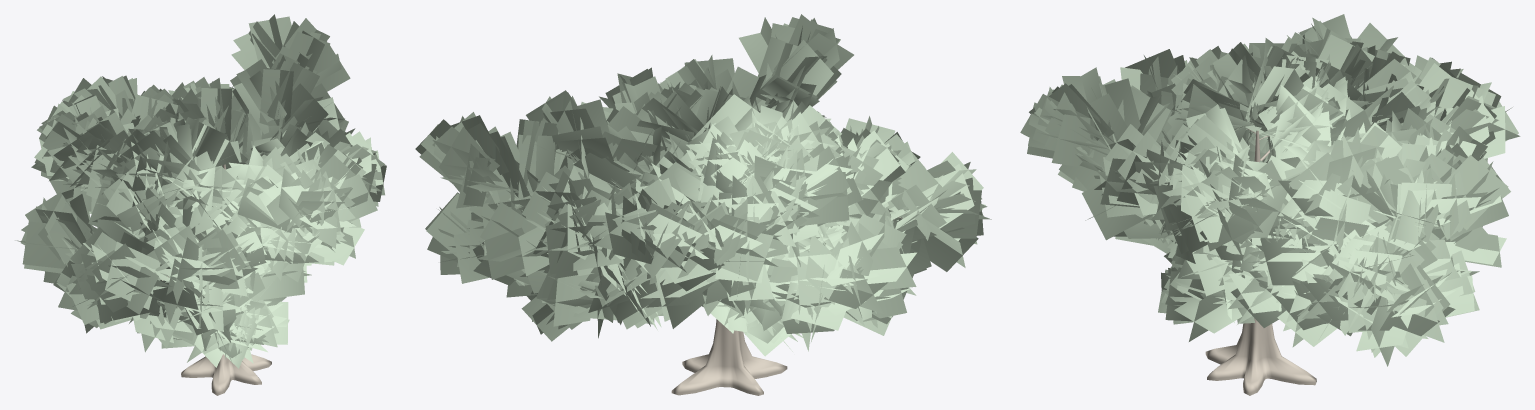
Rendered from tree-7.gltf.
The picture shows the model from 3 angles, left to right: view 1: azimuth 30°, elevation 25°; view 2: azimuth 150°, elevation 25°; view 3: azimuth 270°, elevation 25°; orthographic projection. The views are drawn at different scales.
Visible parts, largest first — view 1: TerraWeave Arbor; view 2: TerraWeave Arbor; view 3: TerraWeave Arbor.
Part boxes in pixels (bbox=[...]): TerraWeave Arbor: bbox=[15, 14, 386, 395]; TerraWeave Arbor: bbox=[415, 14, 991, 395]; TerraWeave Arbor: bbox=[1020, 14, 1520, 395].
Bounding box in the file's own units: 8.43 × 5.46 × 8.31.
